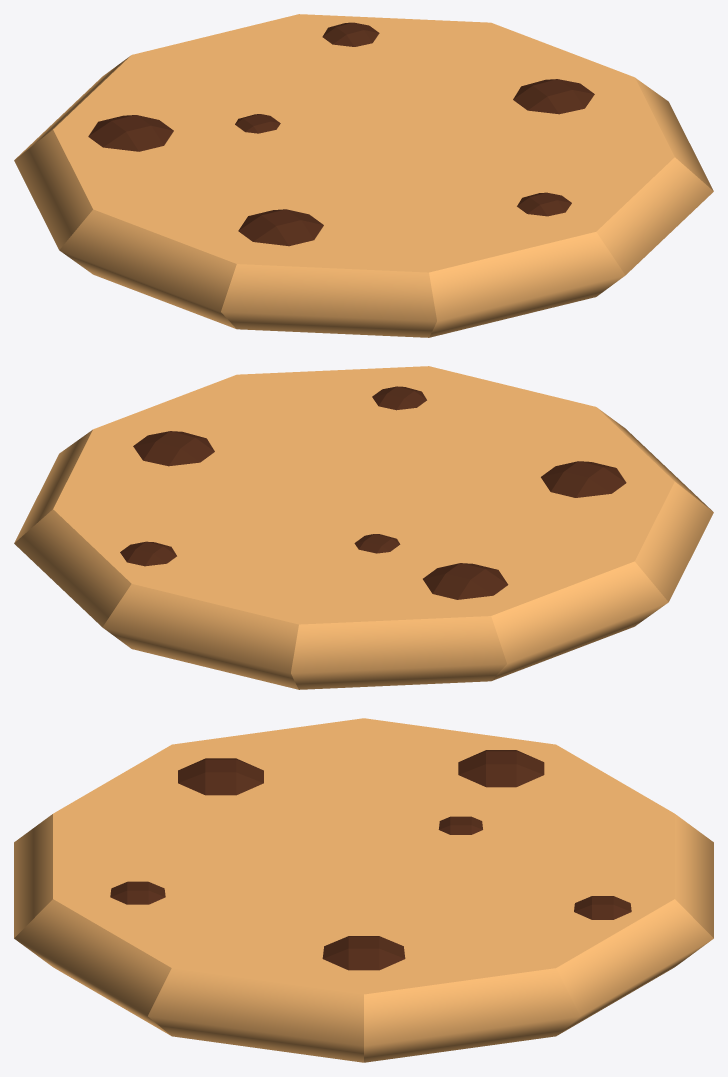
The model's file is PW_cookie.fbx.
The picture shows the model from 3 angles, top to bottom: view 1: azimuth 30°, elevation 25°; view 2: azimuth 150°, elevation 25°; view 3: azimuth 270°, elevation 25°; orthographic projection. The views are drawn at different scales.
Visible parts, largest first — view 1: cookie; view 2: cookie; view 3: cookie.
Boxes of the visible parts, x1=… form: cookie: x1=14, y1=14, x2=713, y2=337; cookie: x1=14, y1=366, x2=713, y2=689; cookie: x1=14, y1=718, x2=713, y2=1062.
Bounding box in the file's own units: 19.84 × 2.43 × 18.87.
Materials: 1 (1 with a texture image).
